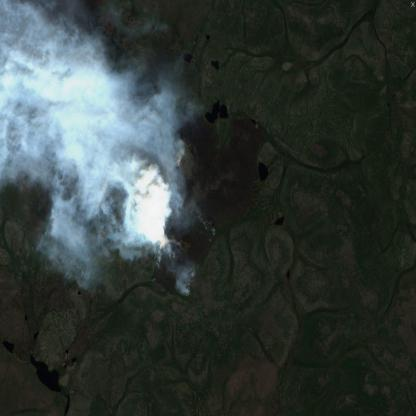fire: (144, 165, 197, 299)
